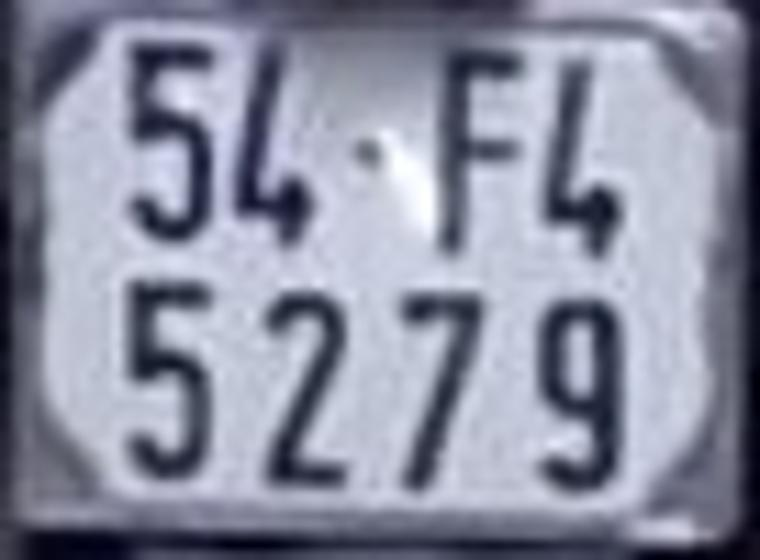-: (347, 138, 397, 164)
2: (263, 287, 349, 488)
4: (539, 52, 625, 260), (231, 49, 314, 246)
5: (128, 279, 212, 481), (125, 39, 208, 236)
7: (395, 290, 485, 489)
9: (531, 296, 627, 493)
F: (431, 51, 523, 253)
